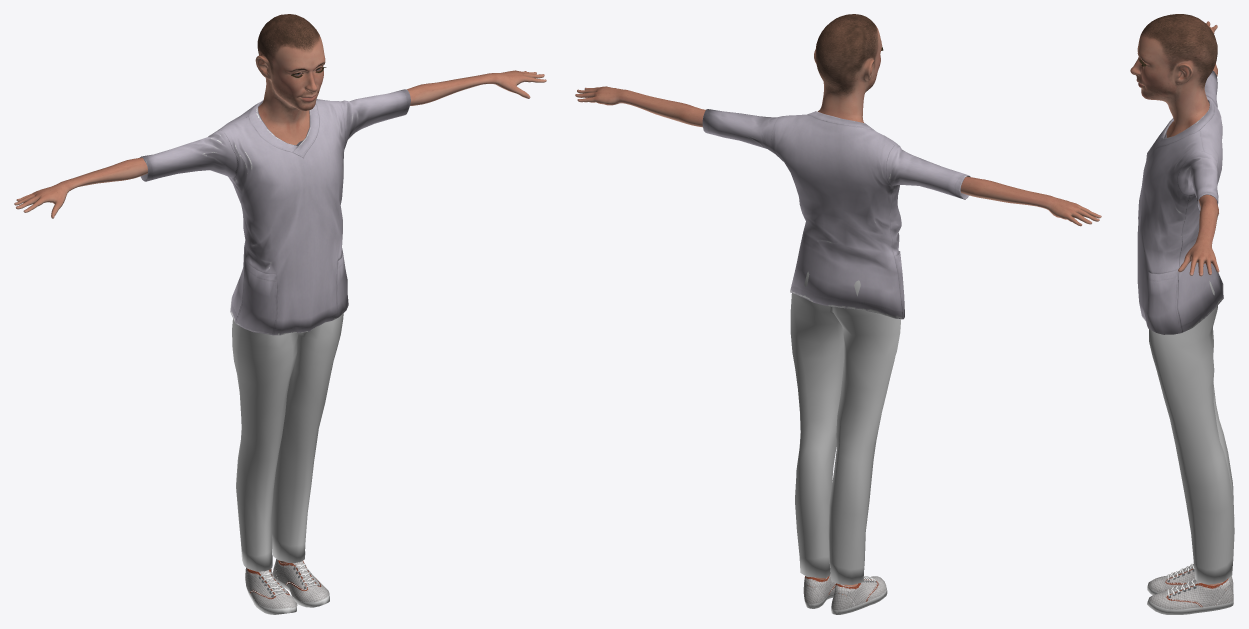
File: Masoud.obj
3 renders of one model, left to right at view 1: azimuth 30°, elevation 25°; view 2: azimuth 150°, elevation 25°; view 3: azimuth 270°, elevation 25°, orthographic.
Parts seen in each view (by area): view 1: Tops, Bottoms, Body, Shoes; view 2: Tops, Bottoms, Body, Shoes; view 3: Tops, Bottoms, Body, Shoes.
Boxes of the visible parts, x1=… form: Tops: x1=139, y1=89, x2=410, y2=335; Bottoms: x1=232, y1=313, x2=343, y2=571; Body: x1=14, y1=14, x2=546, y2=574; Shoes: x1=245, y1=559, x2=329, y2=614; Tops: x1=702, y1=109, x2=970, y2=319; Bottoms: x1=790, y1=271, x2=901, y2=584; Body: x1=575, y1=14, x2=1101, y2=596; Shoes: x1=803, y1=574, x2=887, y2=614; Tops: x1=1137, y1=70, x2=1223, y2=334; Bottoms: x1=1149, y1=281, x2=1234, y2=584; Body: x1=1130, y1=14, x2=1227, y2=588; Shoes: x1=1147, y1=563, x2=1233, y2=614.
Size of the model in its own units: 158 by 166 by 26.87.
